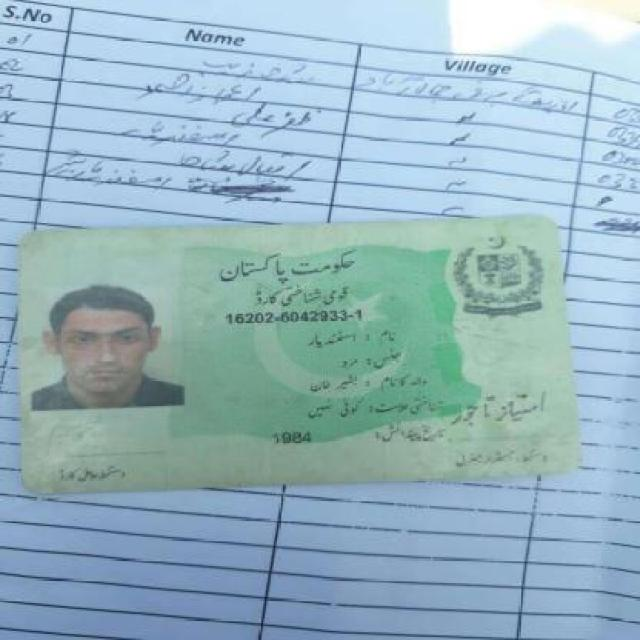Front: (16, 218, 582, 478)
